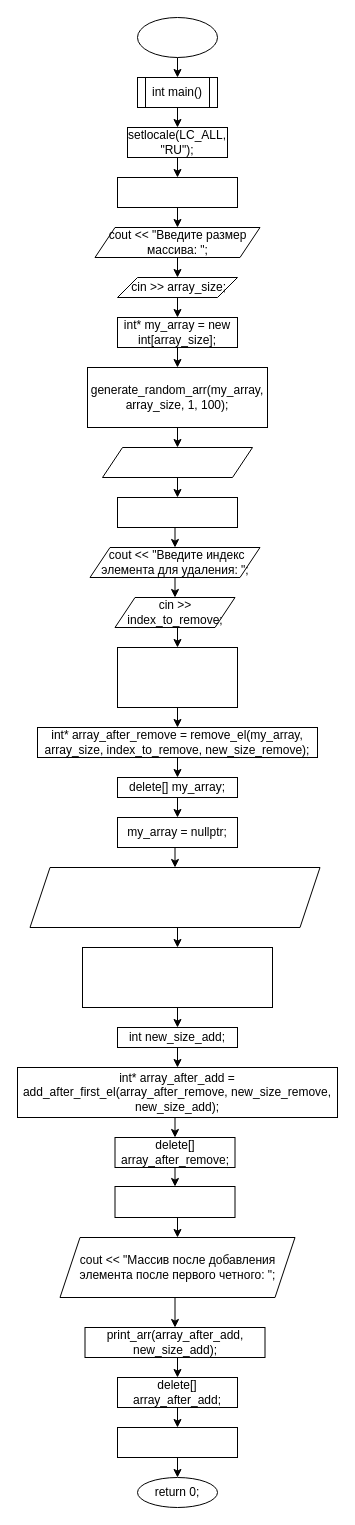
Some shapes in this 355 by 1525 pixel diagram are drawn without their labels. The centre of each missing label's shape, as x and y in pixels:
array_after_add = nullptr;: (177,1442)
array_after_remove = nullptr;: (174,1202)
cout << "Исходный массив: ";: (177,462)
cout << "Массив после удаления элемента с индексом " << index_to_remove << ": ";: (174,897)
int array_size, index_to_remove;: (177,192)
int new_size_remove;: (177,677)
print_arr(array_after_remove, new_size_remove);: (177,977)
print_arr(my_array, array_size);: (177,512)
начало: (177,37)
